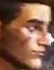kevin: (3, 0, 53, 69)
